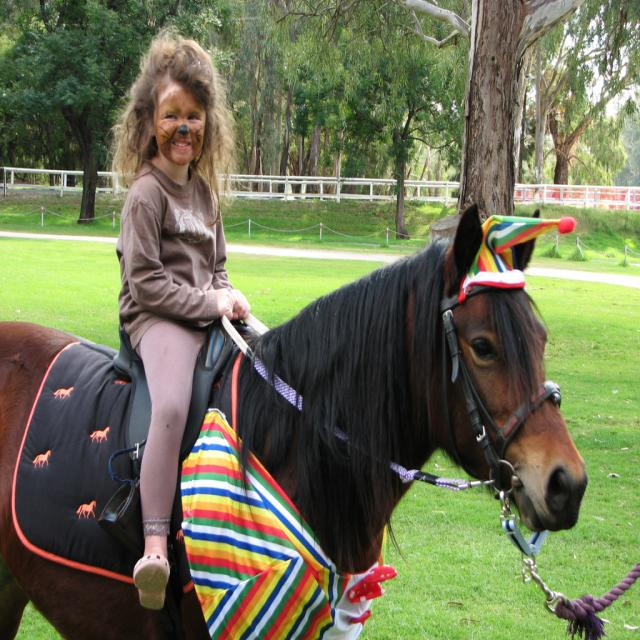Horse: (0, 206, 588, 640)
